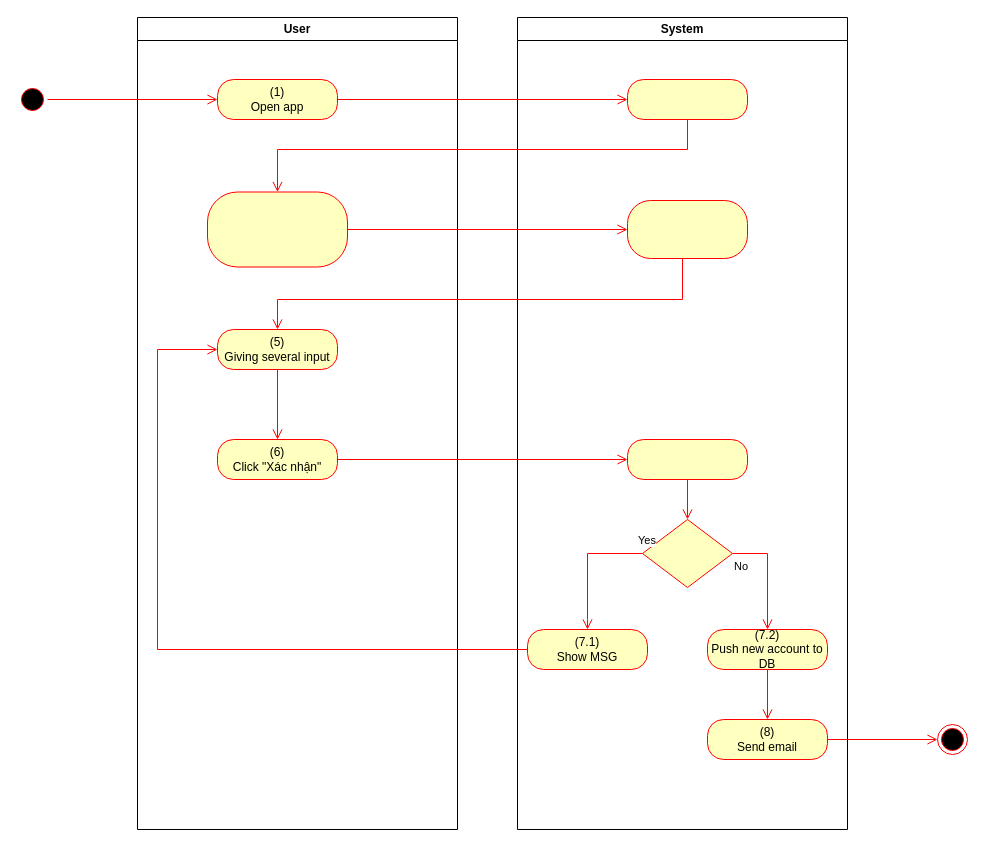
Some shapes in this 985 by 847 pixel diagram are drawn without their labels. The shapes that lost their labels are listed below. From the top down, each one's centre as x and y in pixels, then its label:
point (687, 99): (2) Load "Login" screen
point (277, 229): (3) Click "Create new account"
point (687, 229): (4) Load "Form Create Staff Account"
point (687, 459): (7) Validate
